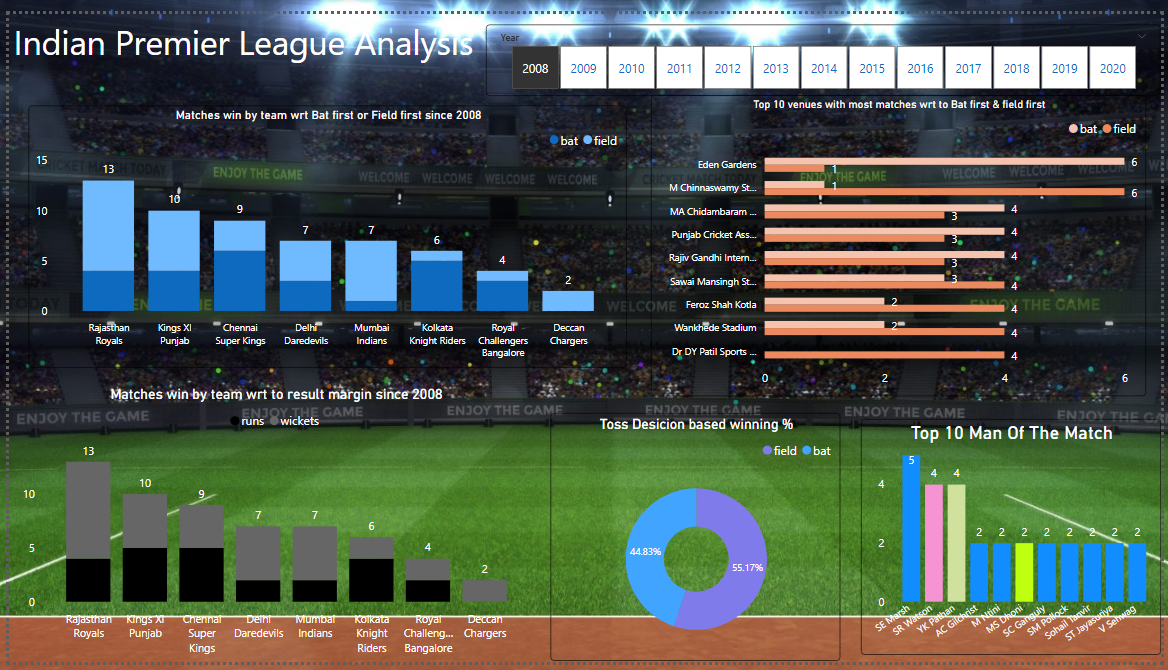

This screenshot's page, from the dashboard's own definition file:
{"tool":"powerbi","page":{"name":"Page 1","canvas":[1280,720],"ordinal":0},"visuals":[{"type":"columnChart","title":"Matches win by team wrt Bat first or Field first since 2008","fields":{"Category":["IPLMatches2008-2020.winner"],"Y":["IPLMatches2008-2020.toss_winner"],"Series":["IPLMatches2008-2020.toss_decision"]},"box":[21,101.9,665,291.2],"z":0},{"type":"donutChart","title":"Toss Desicion based winning %","fields":{"Category":["IPLMatches2008-2020.toss_decision"],"Y":["IPLMatches2008-2020.winner"]},"box":[601.9,443.3,322,275.1],"z":1000},{"type":"textbox","box":[0,0,530.7,74.4],"z":2000},{"type":"columnChart","title":"Top 10 Man Of The Match ","fields":{"Category":["IPLMatches2008-2020.player_of_match"],"Y":["IPLMatches2008-2020.player_of_match"]},"box":[946.5,449.8,333.3,262.1],"z":3000},{"type":"slicer","title":"Top 10 Man Of The Match ","fields":{"Values":["IPLMatches2008-2020.Year"]},"box":[530.7,11.3,749.1,79.3],"z":4000},{"type":"clusteredBarChart","title":"Top 10 venues with most matches wrt to Bat first & field first","fields":{"Category":["IPLMatches2008-2020.venue"],"Series":["IPLMatches2008-2020.toss_decision"],"Y":["IPLMatches2008-2020.toss_winner"]},"box":[713.5,90.6,550.1,334.9],"z":5000},{"type":"columnChart","title":"Matches win by  team wrt to result margin since 2008","fields":{"Category":["IPLMatches2008-2020.winner"],"Y":["IPLMatches2008-2020.result_margin"],"Series":["IPLMatches2008-2020.result"]},"box":[9.7,412.6,574.4,307.4],"z":7000}]}

Visuals, with their boxes in screenshot pixels (x1, y1, x2, y2), scaled from the page's 1280x720 canvas onto the 1168x670 screenshot:
"Matches win by team wrt Bat first or Field first since 2008" columnChart: <region>19, 95, 626, 366</region>
"Toss Desicion based winning %" donutChart: <region>549, 413, 843, 669</region>
textbox: <region>0, 0, 484, 69</region>
"Top 10 Man Of The Match " columnChart: <region>864, 419, 1167, 662</region>
"Top 10 Man Of The Match " slicer: <region>484, 11, 1167, 84</region>
"Top 10 venues with most matches wrt to Bat first & field first" clusteredBarChart: <region>651, 84, 1153, 396</region>
"Matches win by  team wrt to result margin since 2008" columnChart: <region>9, 384, 533, 669</region>
